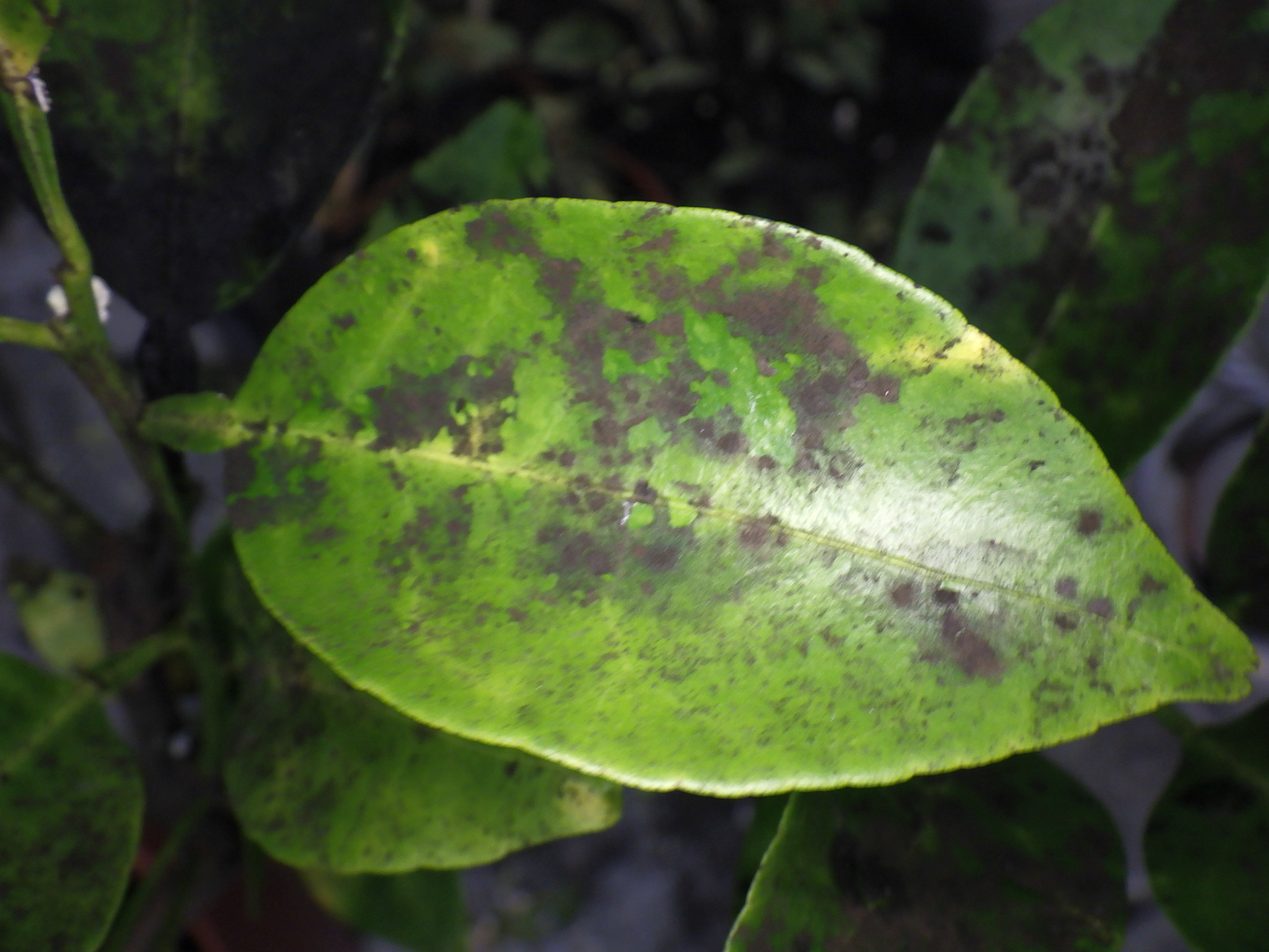Sooty_Mold: (150, 199, 1254, 795)
